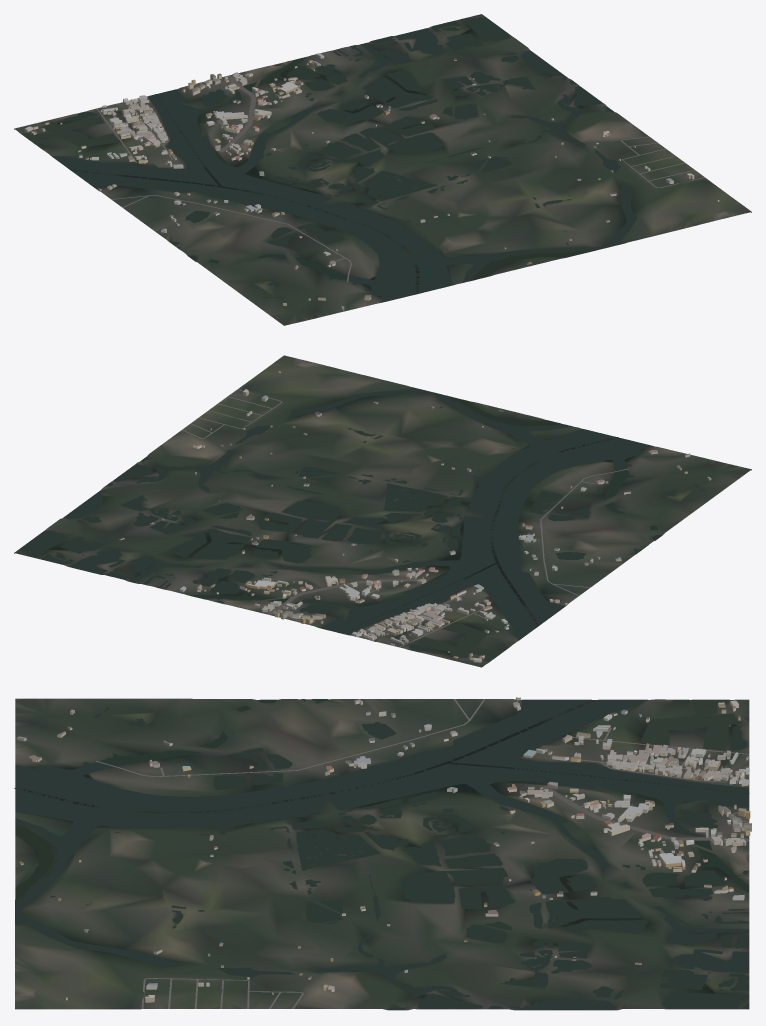
The picture shows the model from 3 angles, top to bottom: view 1: azimuth 30°, elevation 25°; view 2: azimuth 150°, elevation 25°; view 3: azimuth 270°, elevation 25°; orthographic projection. The views are drawn at different scales.
Visible parts, largest first — view 1: ground, water, buildings, roads; view 2: ground, water, buildings, roads; view 3: ground, water, buildings, roads.
Part boxes in pixels (<box>): ground: <box>14,14,751,325</box>; water: <box>22,14,637,302</box>; buildings: <box>24,53,719,310</box>; roads: <box>96,75,704,281</box>; ground: <box>14,355,751,667</box>; water: <box>15,387,705,661</box>; buildings: <box>119,371,711,662</box>; roads: <box>182,389,628,647</box>; ground: <box>15,698,749,1010</box>; water: <box>14,699,749,1009</box>; buildings: <box>17,697,751,1002</box>; roads: <box>96,699,749,1008</box>.
Size of the model in its own units: 1401 by 19.16 by 1408.
